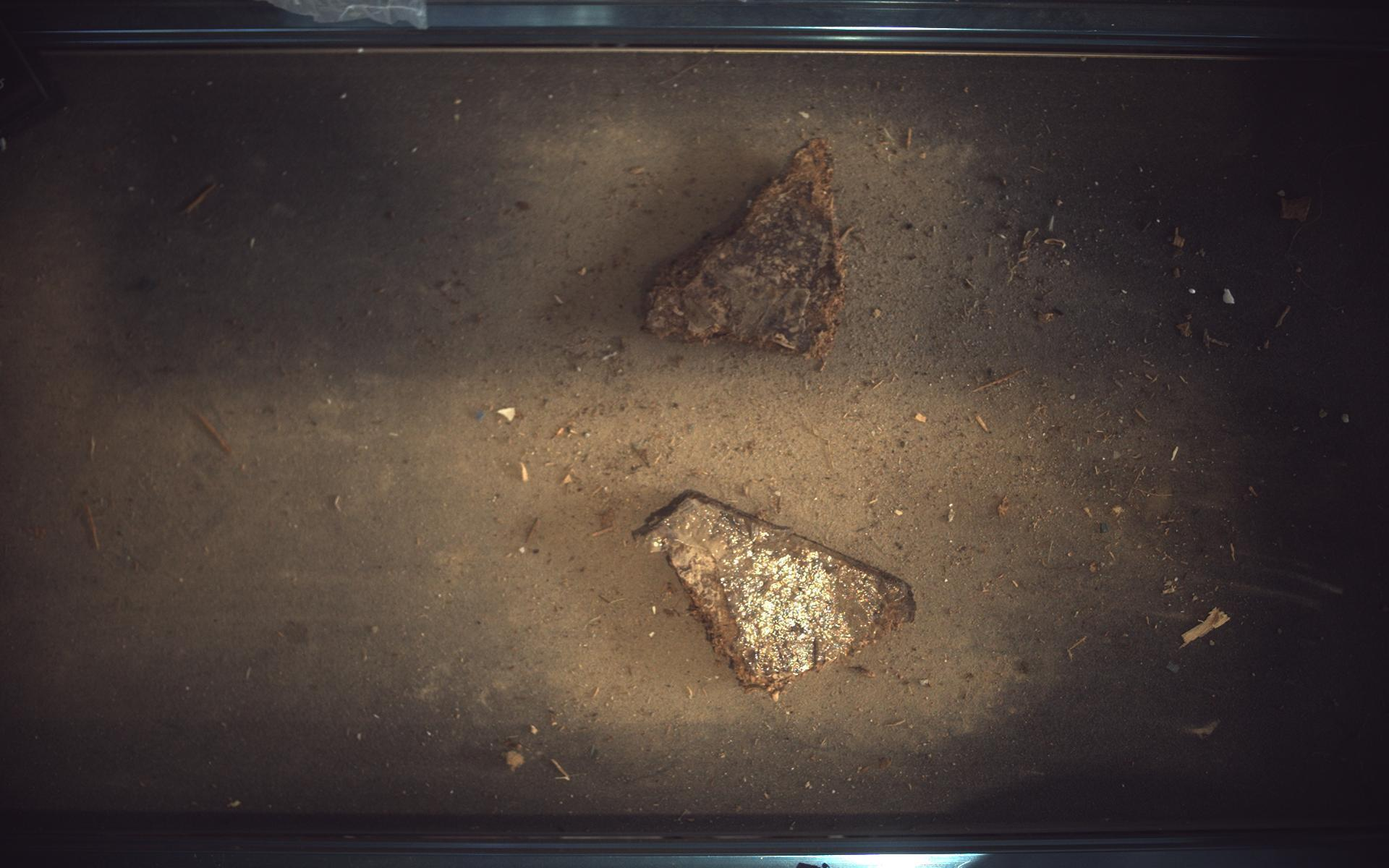wood: (634, 491, 917, 696), (646, 137, 847, 359)
